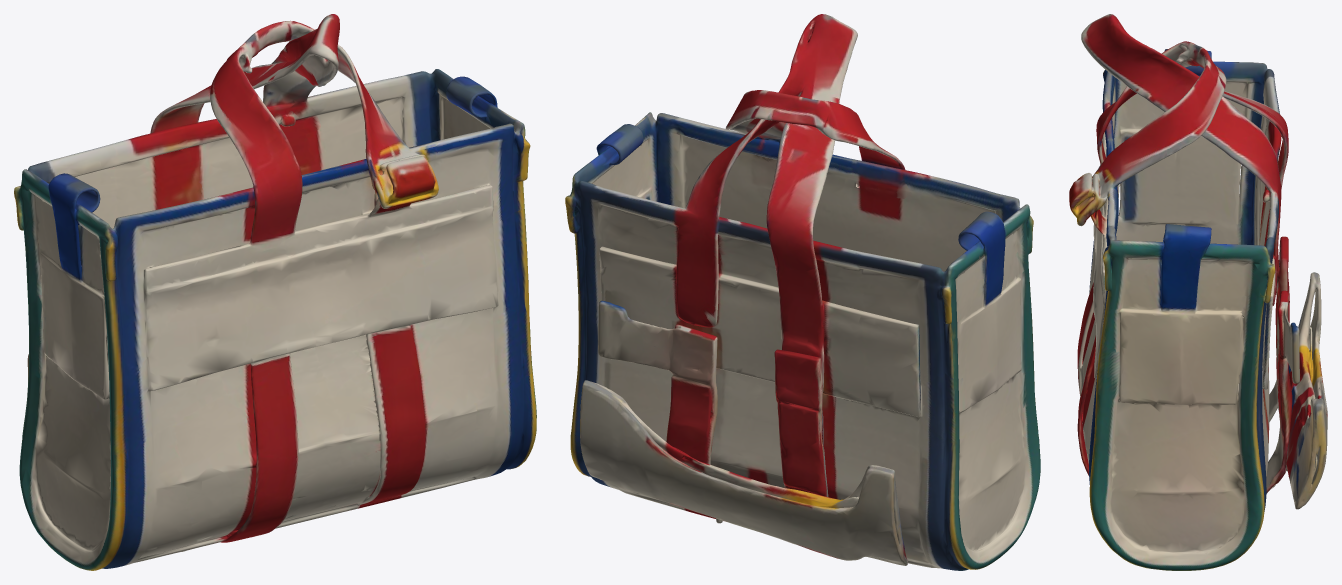
Rendered from modular-zipper-bag.glb.
3 renders of one model, left to right at view 1: azimuth 30°, elevation 25°; view 2: azimuth 150°, elevation 25°; view 3: azimuth 270°, elevation 25°, orthographic. The views are drawn at different scales.
Visible parts, largest first — view 1: tripo_node_6c93d9ca-9b29-4aeb-ba70-2b1e0f860d76; view 2: tripo_node_6c93d9ca-9b29-4aeb-ba70-2b1e0f860d76; view 3: tripo_node_6c93d9ca-9b29-4aeb-ba70-2b1e0f860d76.
Part boxes in pixels (left/top/right/bottom): tripo_node_6c93d9ca-9b29-4aeb-ba70-2b1e0f860d76: left=14, top=14, right=536, bottom=570; tripo_node_6c93d9ca-9b29-4aeb-ba70-2b1e0f860d76: left=565, top=14, right=1040, bottom=570; tripo_node_6c93d9ca-9b29-4aeb-ba70-2b1e0f860d76: left=1069, top=14, right=1327, bottom=570.
Bounding box in the file's own units: 0.8541 × 1 × 0.4889.
Materials: 1 (1 with a texture image).
